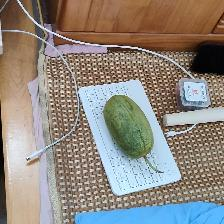gua: (103, 96, 156, 154)
